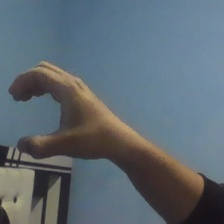C: (6, 58, 109, 165)
